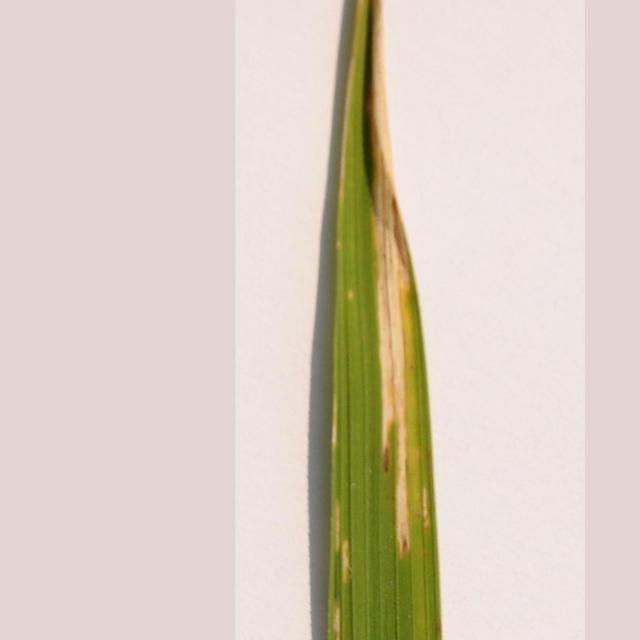leaf blight: (319, 1, 446, 633)
